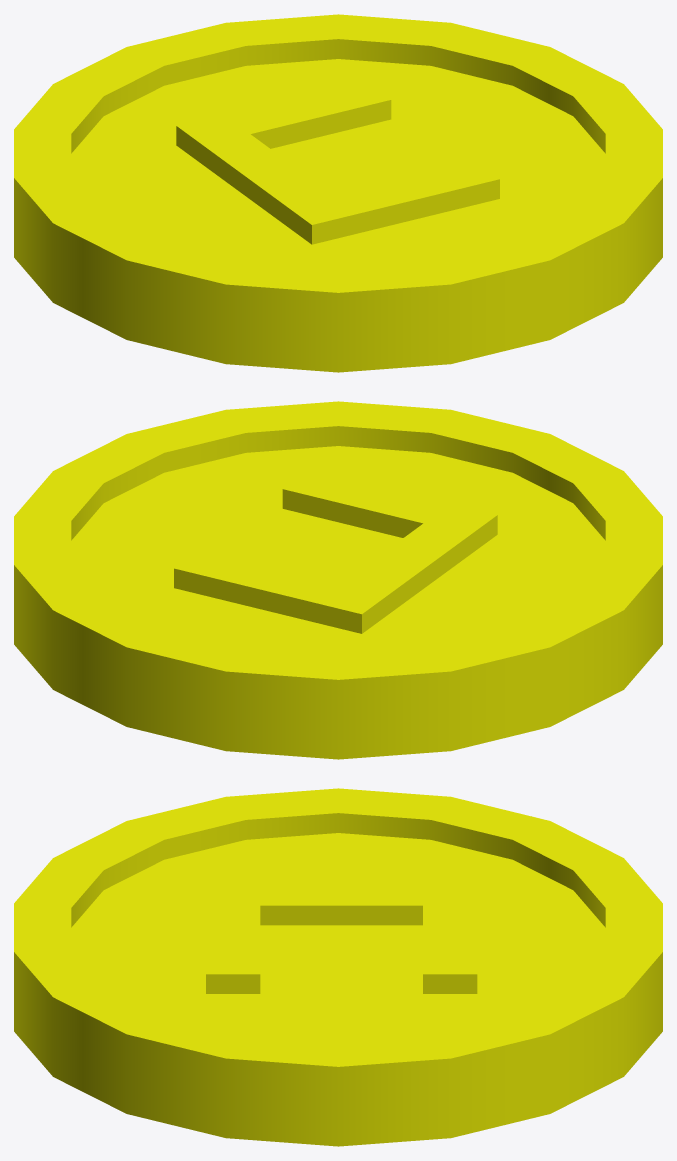
Rendered from coin.FBX.
3 views of the same model, one above another, from view 1: azimuth 30°, elevation 25°; view 2: azimuth 150°, elevation 25°; view 3: azimuth 270°, elevation 25° (orthographic).
Visible parts, largest first — view 1: C-Ext002; view 2: C-Ext002; view 3: C-Ext002.
Boxes of the visible parts, bbox=[...] form: C-Ext002: bbox=[14, 14, 662, 372]; C-Ext002: bbox=[14, 401, 662, 759]; C-Ext002: bbox=[14, 788, 662, 1146].
Bounding box in the file's own units: 30 × 4 × 29.54.
